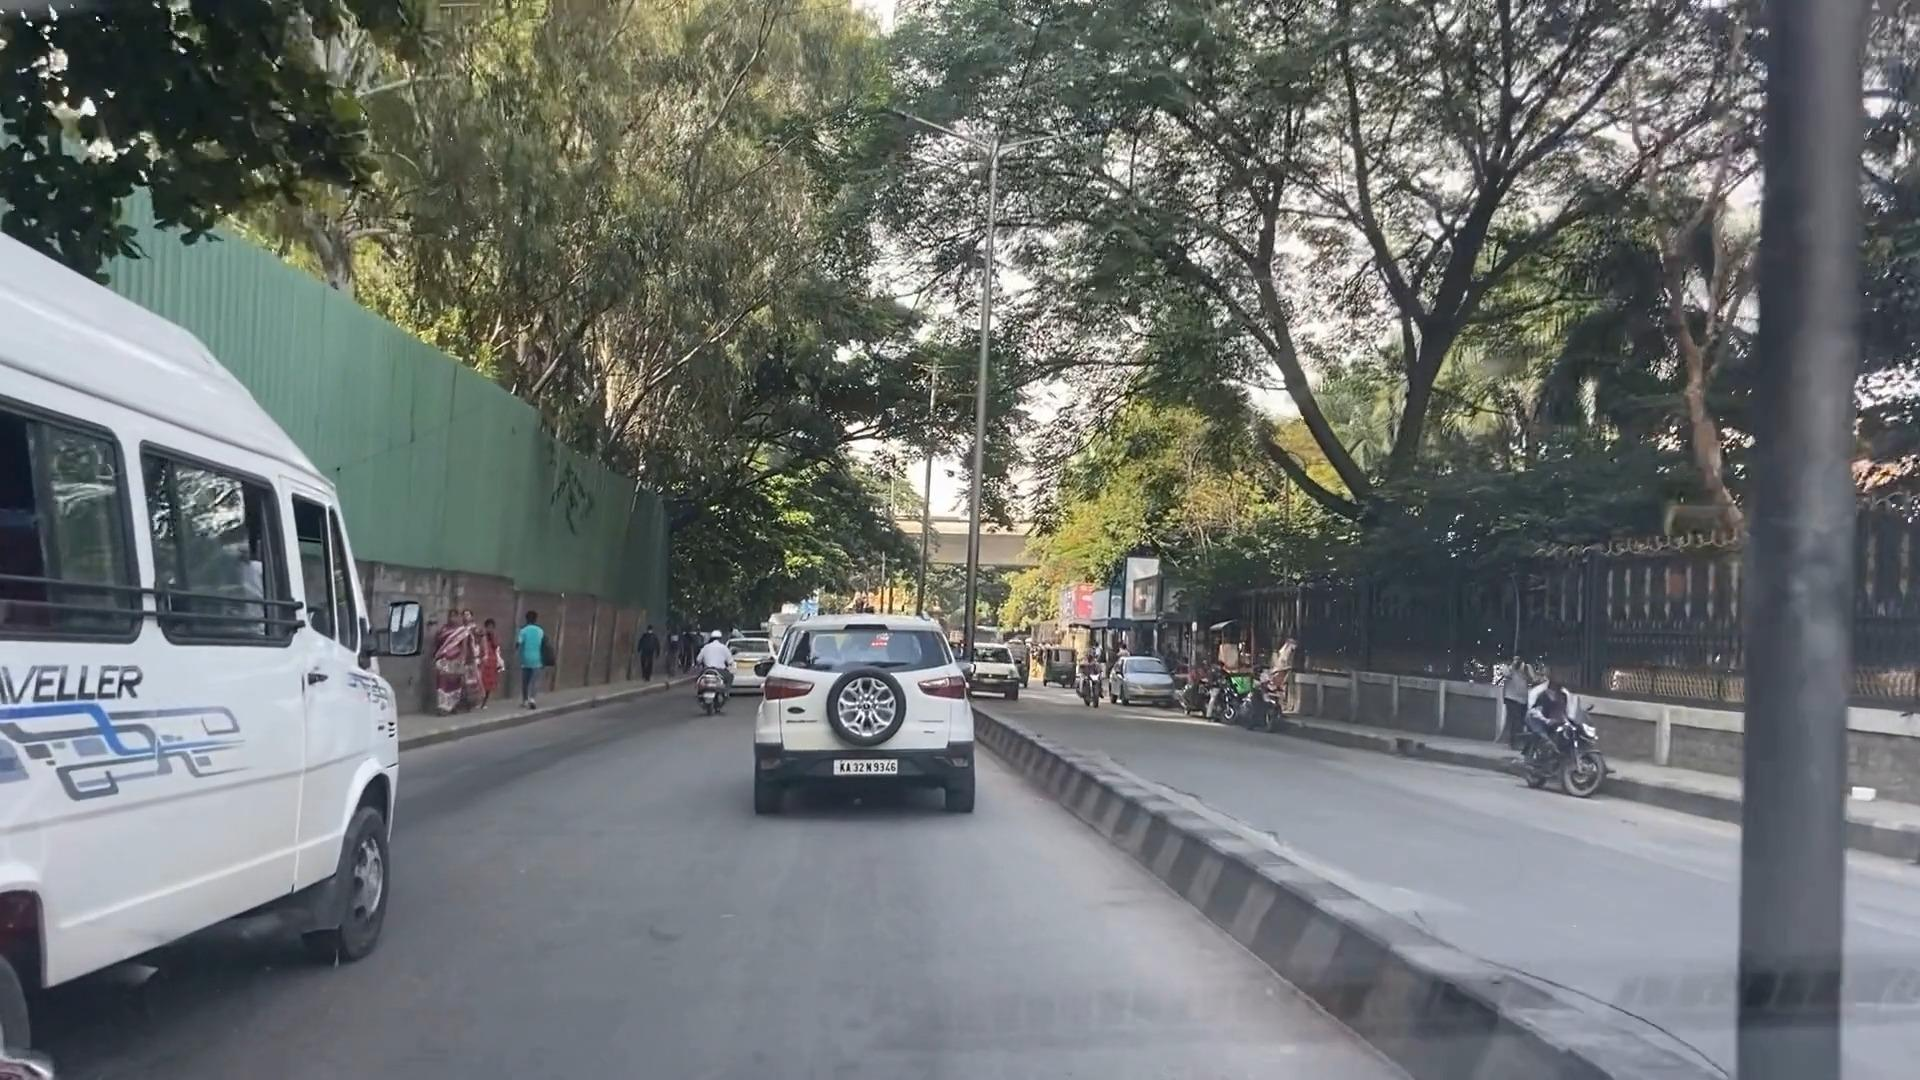HMV: (5, 228, 442, 1040)
LMV: (775, 611, 989, 848)
